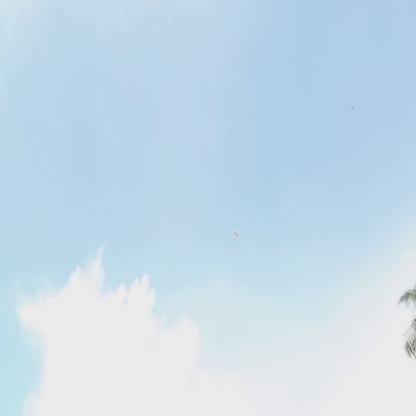drone: (229, 226, 241, 238)
